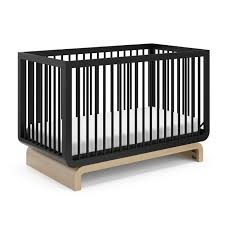crib: (18, 44, 208, 166)
